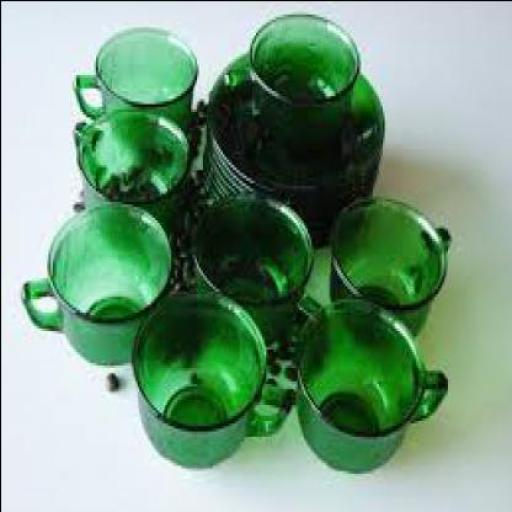glass: (201, 48, 386, 242), (134, 285, 299, 465), (299, 299, 451, 467), (207, 45, 386, 185), (24, 198, 172, 364), (192, 193, 326, 340), (328, 190, 452, 336), (251, 10, 362, 146), (75, 105, 192, 225), (75, 23, 199, 122)
